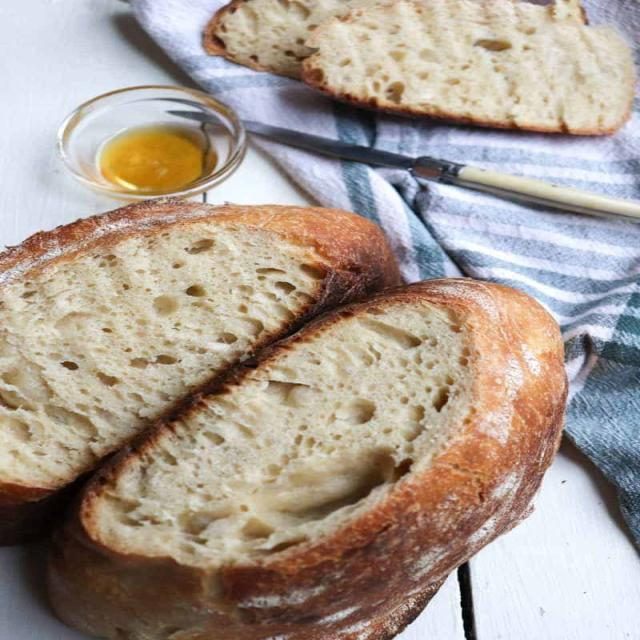Maltese-Bread: (47, 278, 567, 639), (0, 199, 401, 526)
